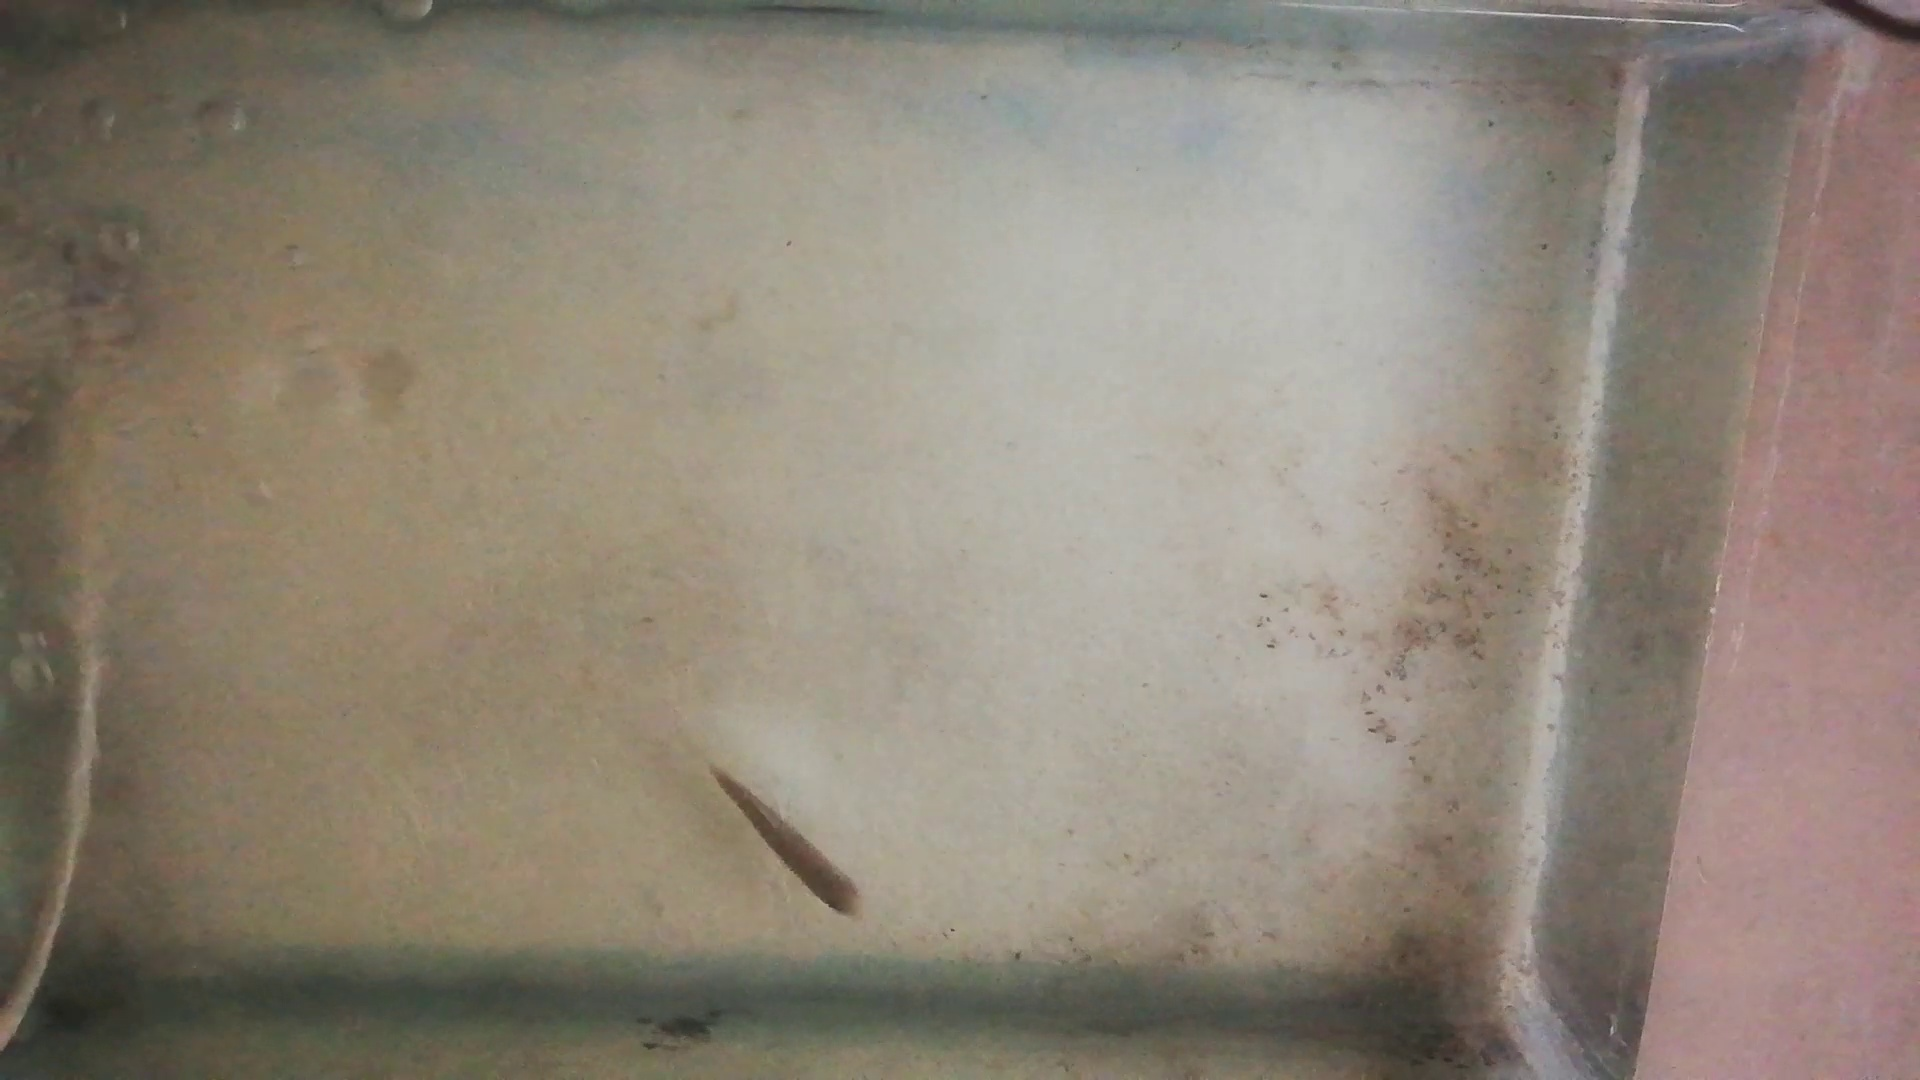fish: (705, 760, 862, 923)
